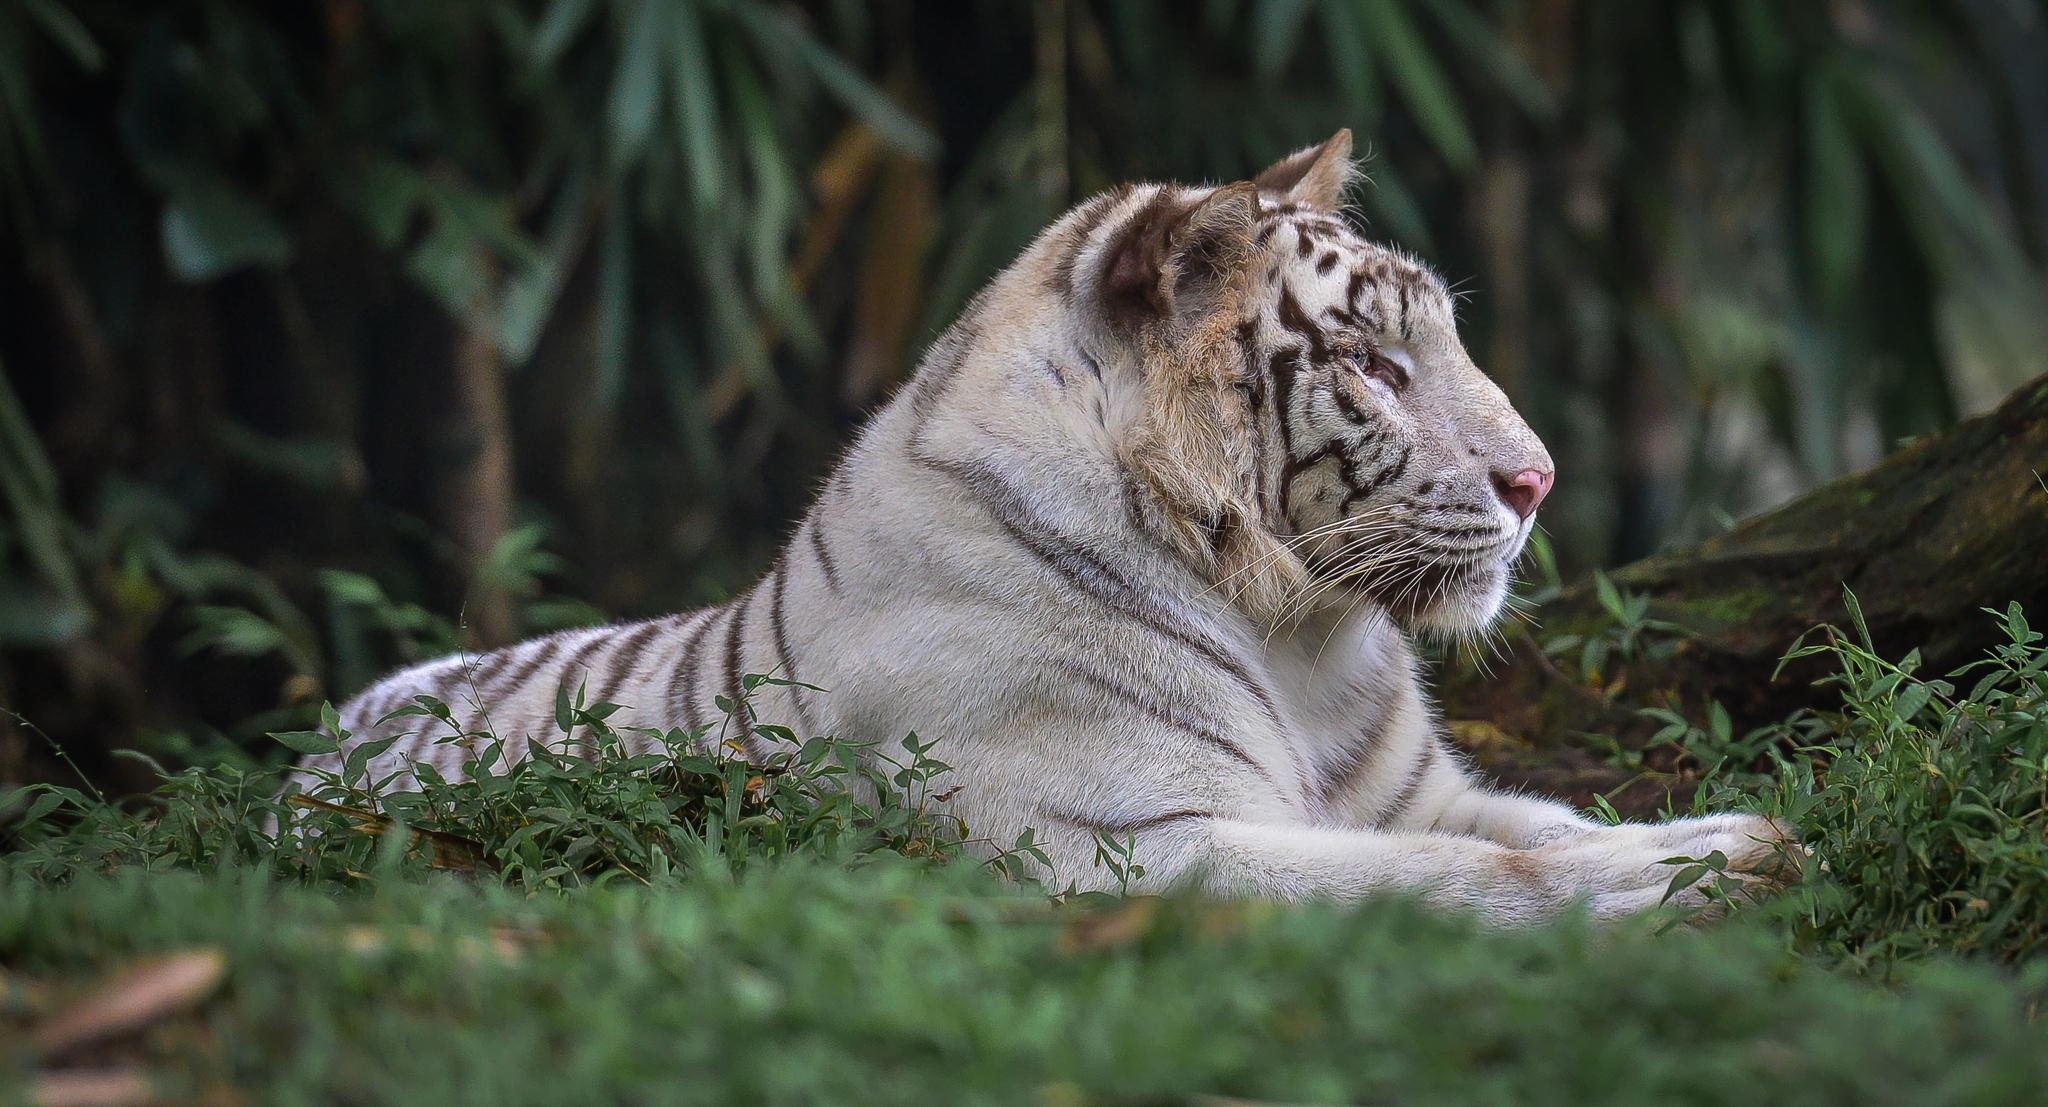tiger: (371, 132, 1673, 879)
